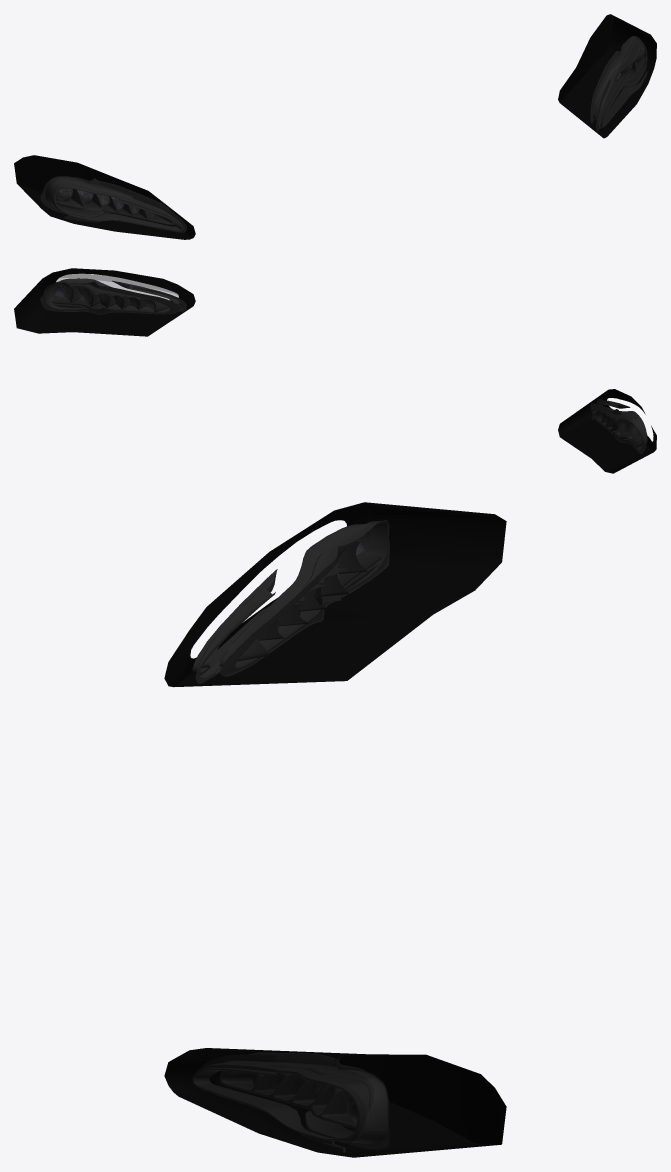
Rendered from headlamp.glb.
The picture shows the model from 3 angles, top to bottom: view 1: azimuth 30°, elevation 25°; view 2: azimuth 150°, elevation 25°; view 3: azimuth 270°, elevation 25°; orthographic projection. The views are drawn at different scales.
Parts seen in each view (by area): view 1: Window_Geo_lodA_McLaren_Elva_2021Window_Material_0.002, Light_Geo_lodA_McLaren_Elva_2021LightA_Material_0.001; view 2: Light_Geo_lodA_McLaren_Elva_2021LightA_Material_0.001, Window_Geo_lodA_McLaren_Elva_2021Window_Material_0.002; view 3: Window_Geo_lodA_McLaren_Elva_2021Window_Material_0.002, Light_Geo_lodA_McLaren_Elva_2021LightA_Material_0.001.
Part boxes in pixels (x1,y1,x2,y2): Window_Geo_lodA_McLaren_Elva_2021Window_Material_0.002: (14, 155, 195, 239); Light_Geo_lodA_McLaren_Elva_2021LightA_Material_0.001: (558, 14, 656, 138); Light_Geo_lodA_McLaren_Elva_2021LightA_Material_0.001: (14, 268, 195, 336); Window_Geo_lodA_McLaren_Elva_2021Window_Material_0.002: (558, 389, 656, 473); Window_Geo_lodA_McLaren_Elva_2021Window_Material_0.002: (164, 502, 506, 687); Light_Geo_lodA_McLaren_Elva_2021LightA_Material_0.001: (164, 1048, 506, 1157).
Size of the model in its own units: 0.017 by 0.00133 by 0.00407.
3 materials, 1 textured.
